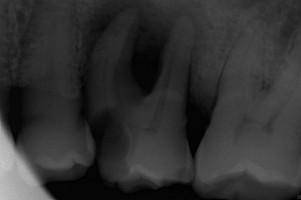Dental Caries: (82, 0, 216, 96)
